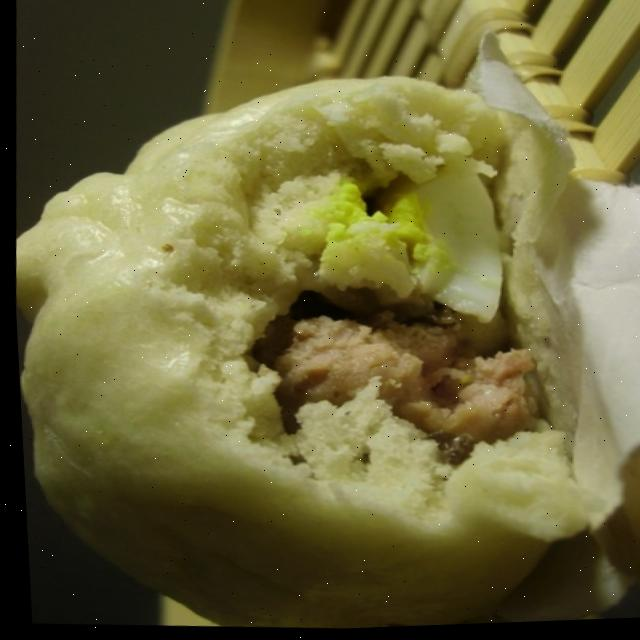带馅早点: (4, 76, 605, 640)
